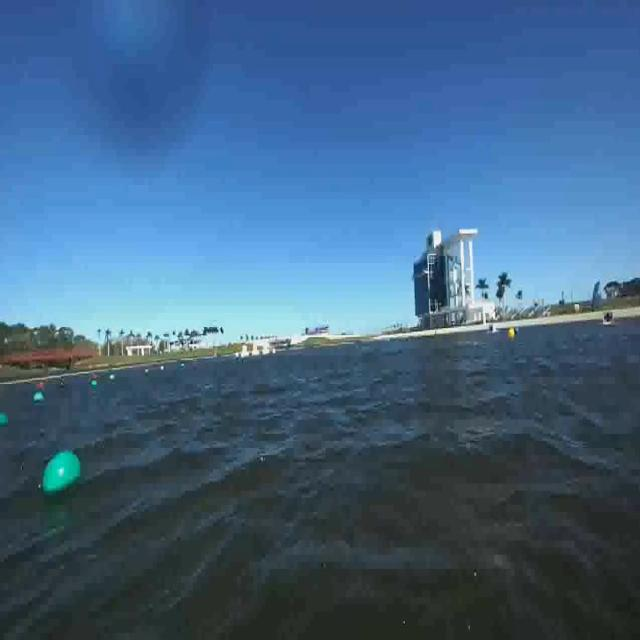green-buoy: (43, 450, 85, 499), (0, 414, 9, 427), (35, 396, 47, 405)
yellow-buoy: (509, 325, 518, 340)
